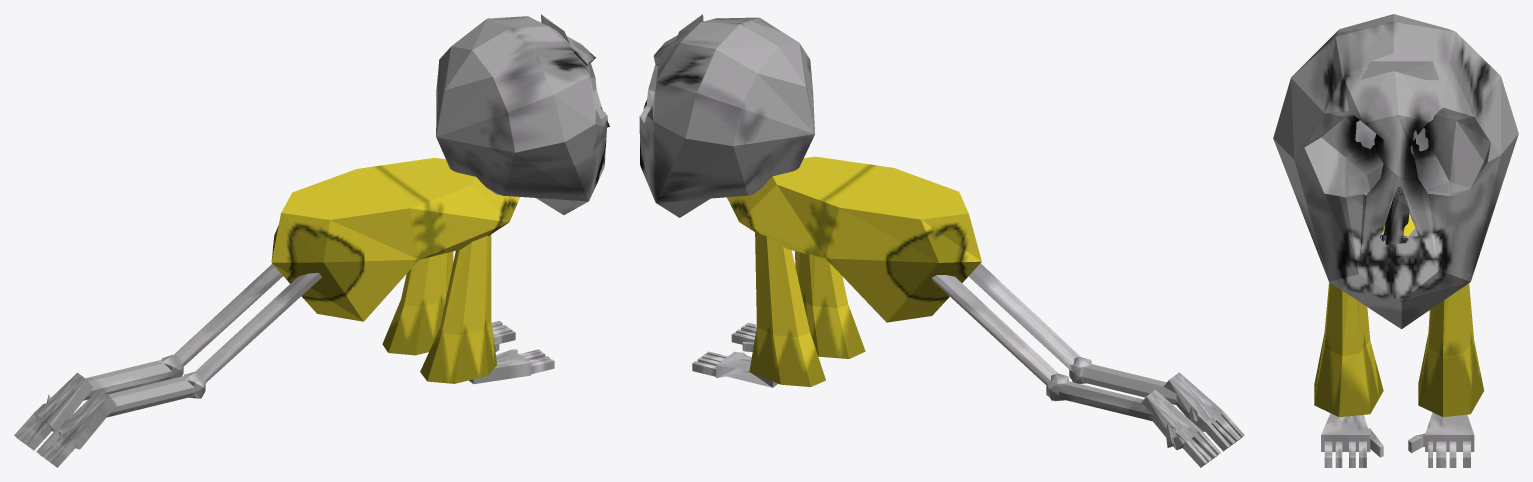
File: OldSit3.glb
The picture shows the model from 3 angles, left to right: view 1: azimuth 30°, elevation 25°; view 2: azimuth 150°, elevation 25°; view 3: azimuth 270°, elevation 25°; orthographic projection. The views are drawn at different scales.
Visible parts, largest first — view 1: OldSit3; view 2: OldSit3; view 3: OldSit3.
Part boxes in pixels (box(x1,y1,x2,y2)): OldSit3: box(14, 14, 609, 467); OldSit3: box(639, 14, 1244, 467); OldSit3: box(1273, 14, 1518, 467).
Size of the model in its own units: 110 by 59.74 by 30.63.
1 material, 1 textured.
